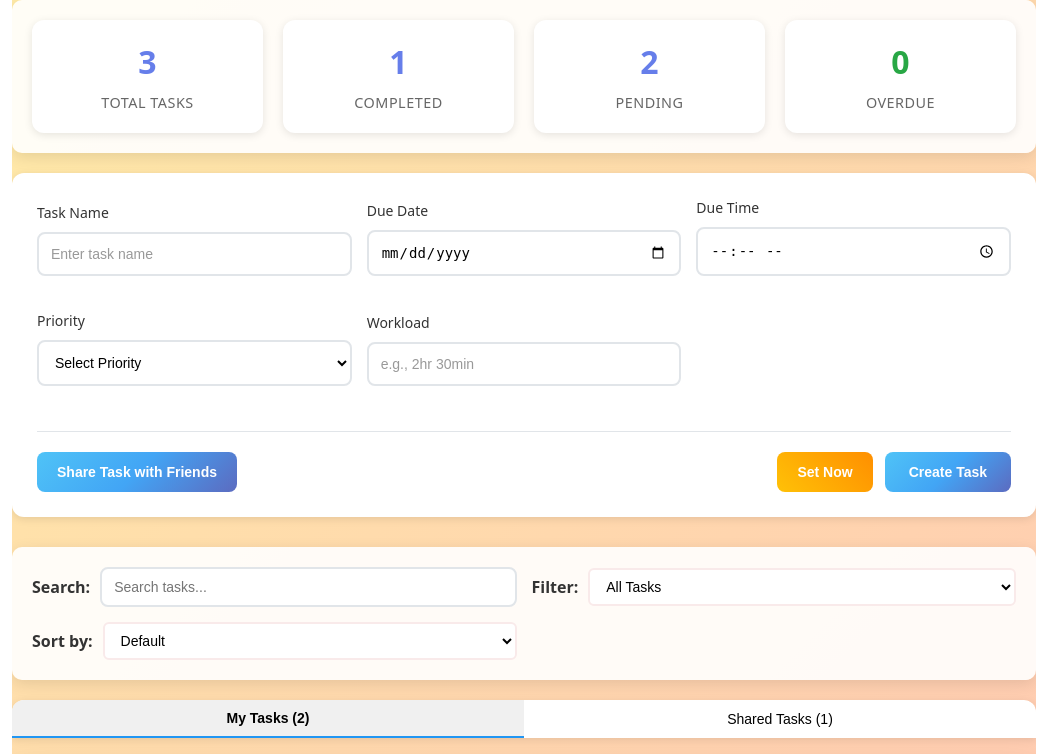
it: Task component › shows validation error for short task name
This screenshot has width=1048, height=754.
Type "ab" into the field with placeholder "Enter task name" at (194, 254), box [37, 232, 352, 276]
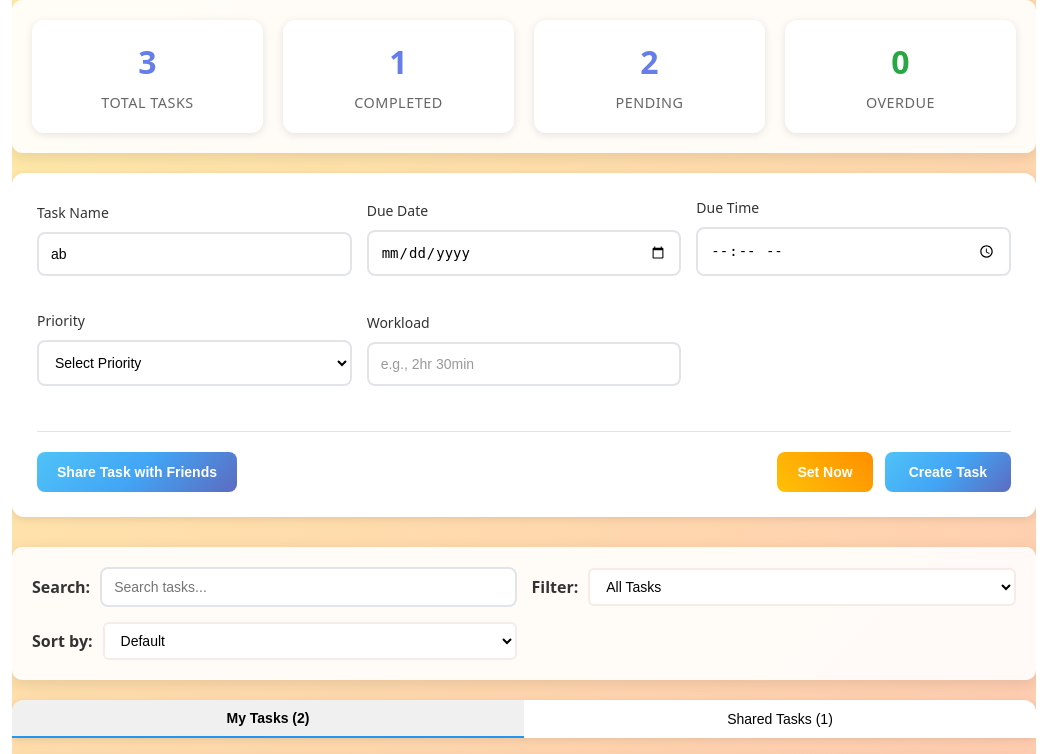
Click the button "Create Task" at (948, 472), box [885, 452, 1011, 492]
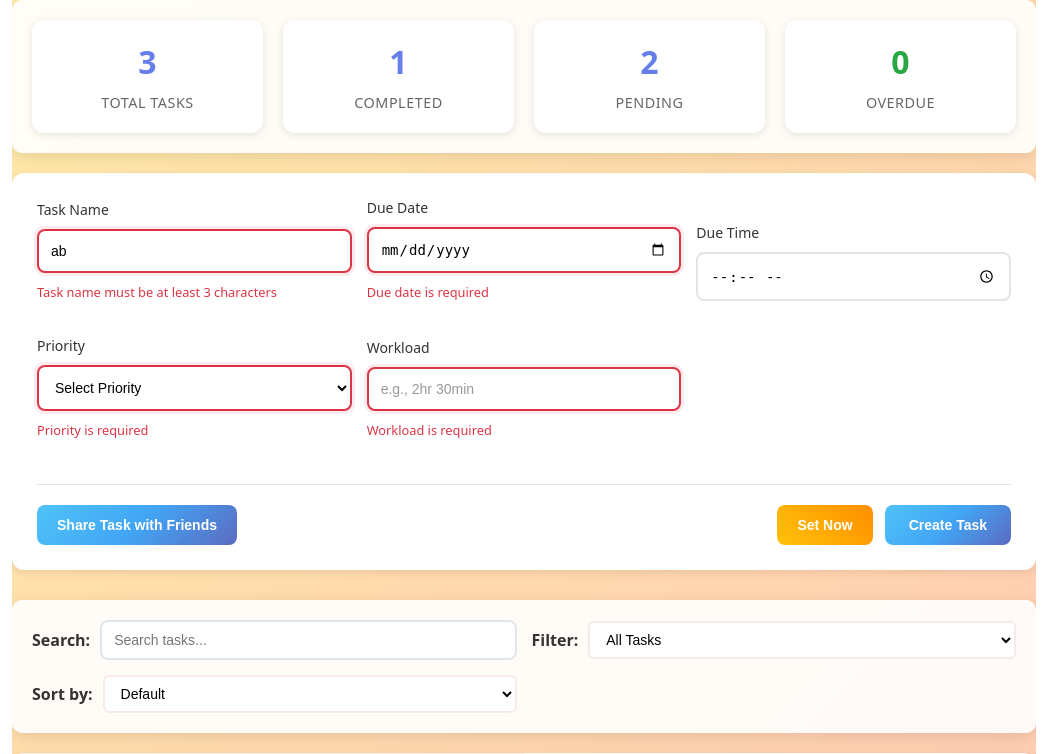
Expected: the text "Task name must be at least 3 characters" is shown, [37, 283, 277, 301]
